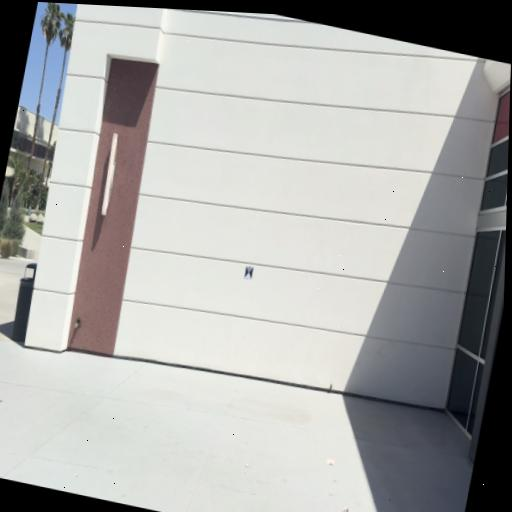target0: (244, 264, 253, 279)
